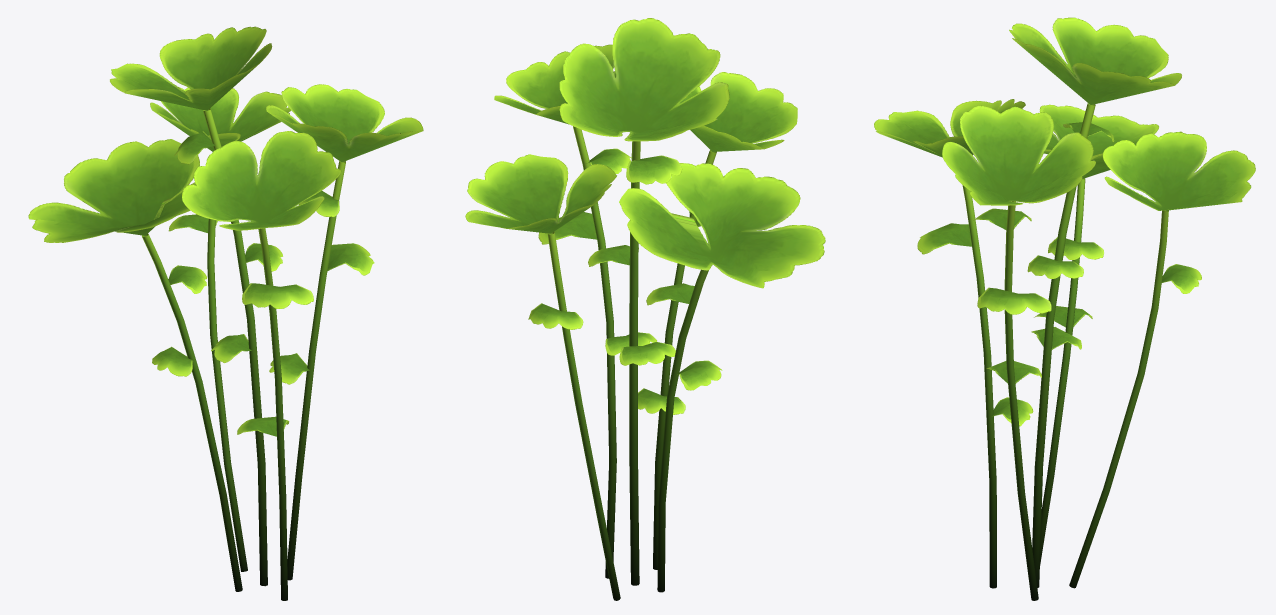
Rendered from Clover_2.glb.
The picture shows the model from 3 angles, left to right: view 1: azimuth 30°, elevation 25°; view 2: azimuth 150°, elevation 25°; view 3: azimuth 270°, elevation 25°; orthographic projection. The views are drawn at different scales.
Parts seen in each view (by area): view 1: Clover_2; view 2: Clover_2; view 3: Clover_2.
Part boxes in pixels (x1,y1,x2,y2): Clover_2: [28, 26, 423, 600]; Clover_2: [465, 18, 825, 600]; Clover_2: [874, 17, 1255, 600].
Bounding box in the file's own units: 0.8511 × 1.26 × 0.8366.
Materials: 1 (1 with a texture image).
